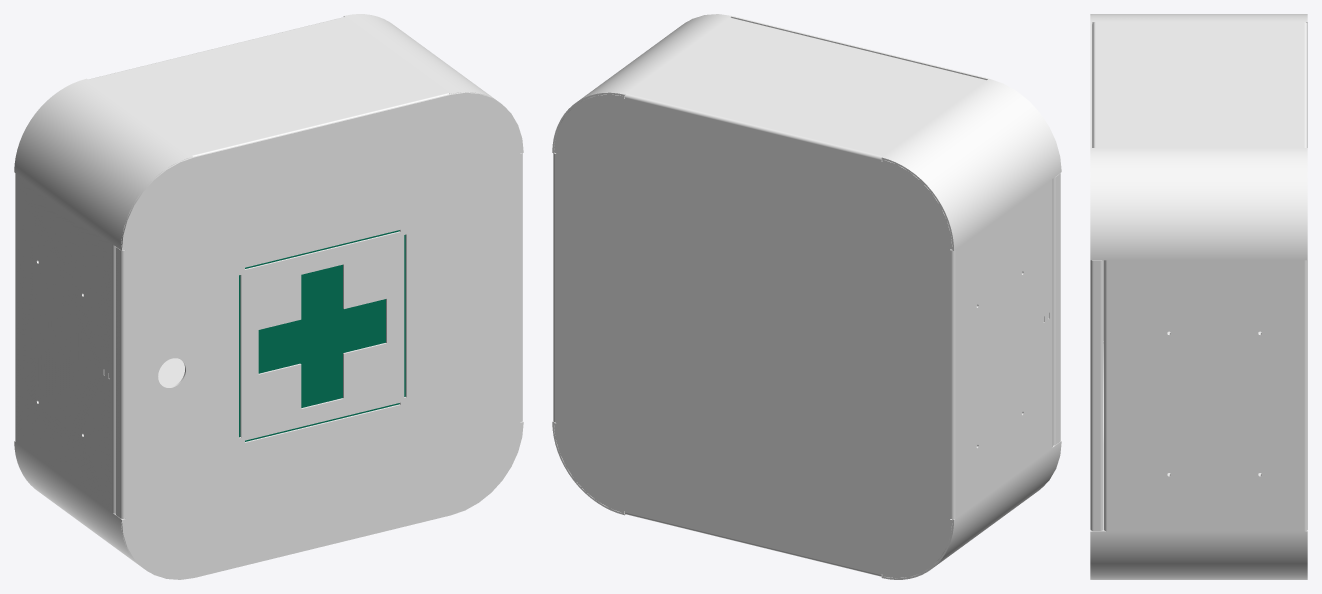
The model's file is crew-110.glb.
3 renders of one model, left to right at view 1: azimuth 30°, elevation 25°; view 2: azimuth 150°, elevation 25°; view 3: azimuth 270°, elevation 25°, orthographic.
Visible parts, largest first — view 1: 1, 0; view 2: 1; view 3: 1.
Part boxes in pixels (x1,y1,x2,y2): 1: (14,14,523,579); 0: (239,230,405,441); 1: (552,14,1061,579); 1: (1090,14,1307,579).
Bounding box in the file's own units: 0.36 × 0.36 × 0.167.
Materials: 2 (1 with a texture image).
